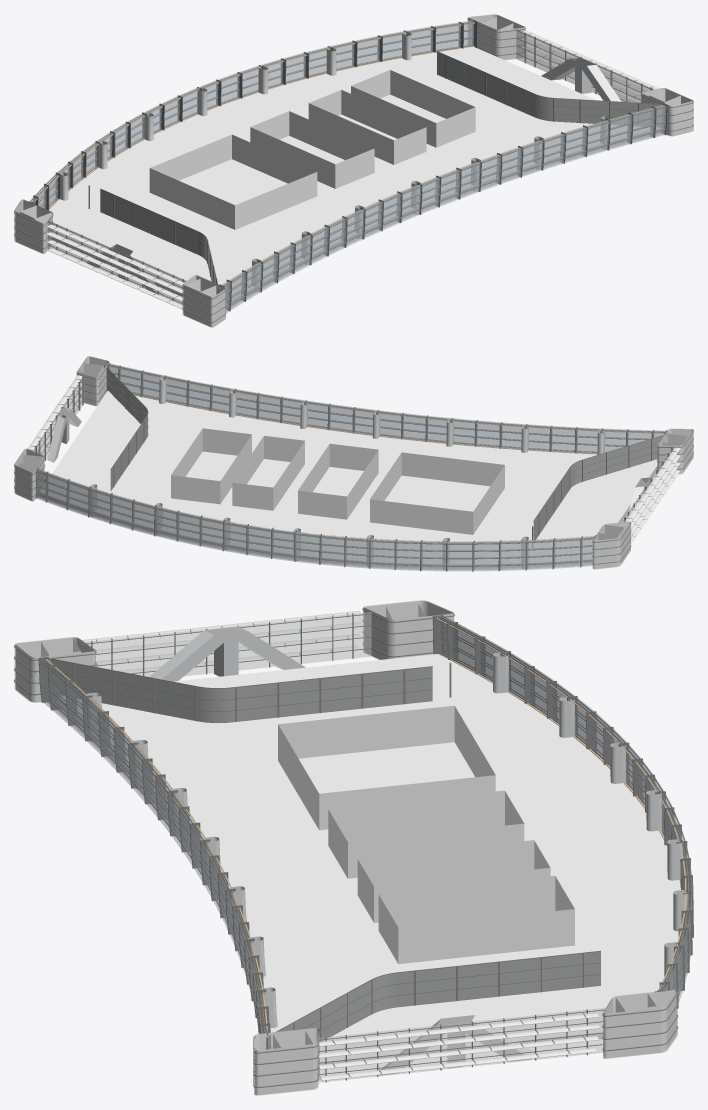
3 renders of one model, top to bottom at view 1: azimuth 30°, elevation 25°; view 2: azimuth 150°, elevation 25°; view 3: azimuth 270°, elevation 25°, orthographic. The views are drawn at different scales.
Visible parts, largest first — view 1: floor.054; view 2: floor.054; view 3: floor.054.
Boxes of the visible parts, bbox=[...] form: floor.054: bbox=[14, 14, 693, 327]; floor.054: bbox=[14, 356, 693, 571]; floor.054: bbox=[14, 600, 693, 1095].
Bounding box in the file's own units: 82.02 × 3.8 × 52.24.
14 materials, 1 textured.
